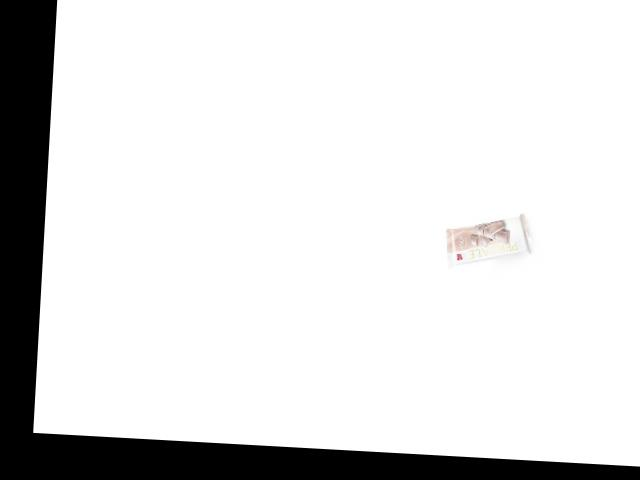chocolate: (443, 203, 529, 274)
